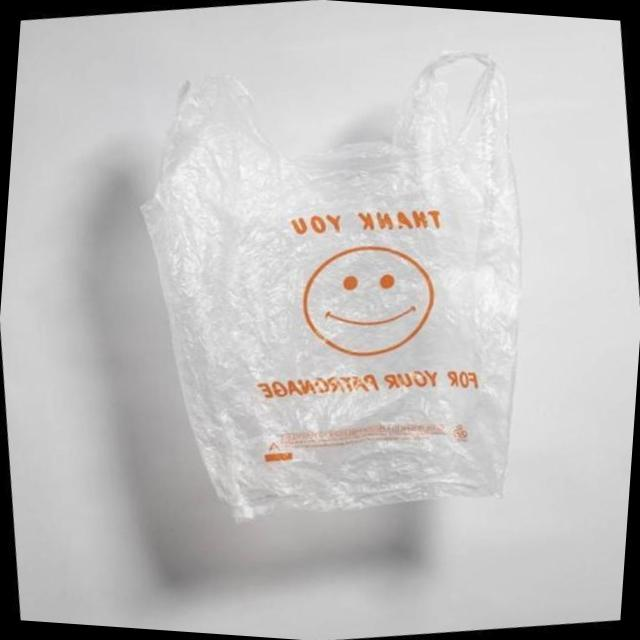KantongPlastik: (117, 28, 541, 540)
